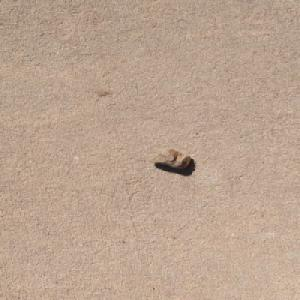Rock: (145, 147, 192, 169)
